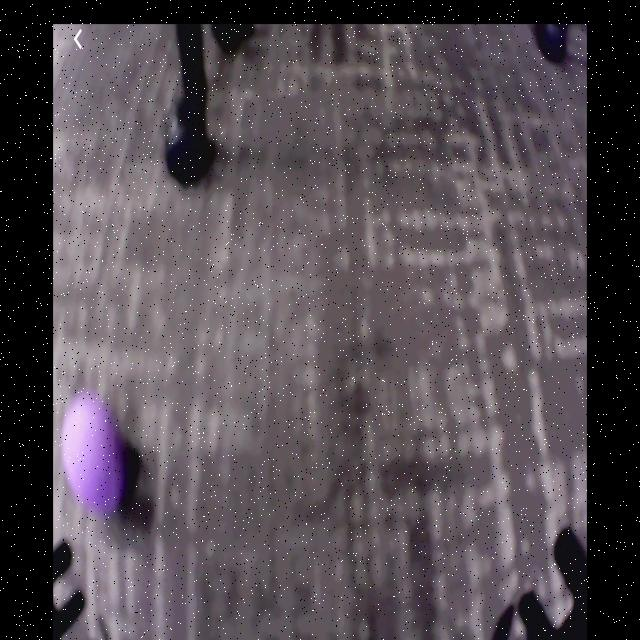ball: (63, 390, 127, 521)
